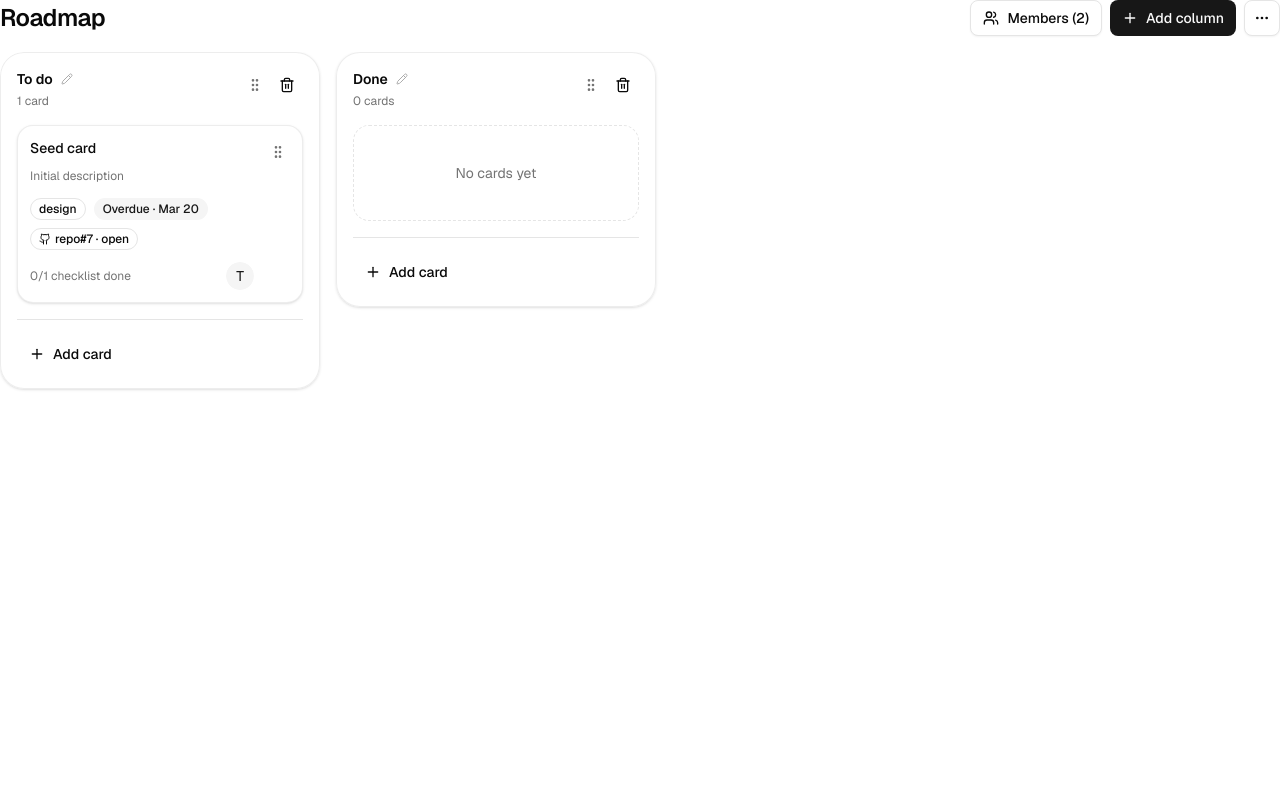
it: BoardView › removes a board member
The image size is (1280, 800).
Later steps or results of the test are not shown.
Click the button "Members (2)": (1036, 18) [970,0,1102,36]
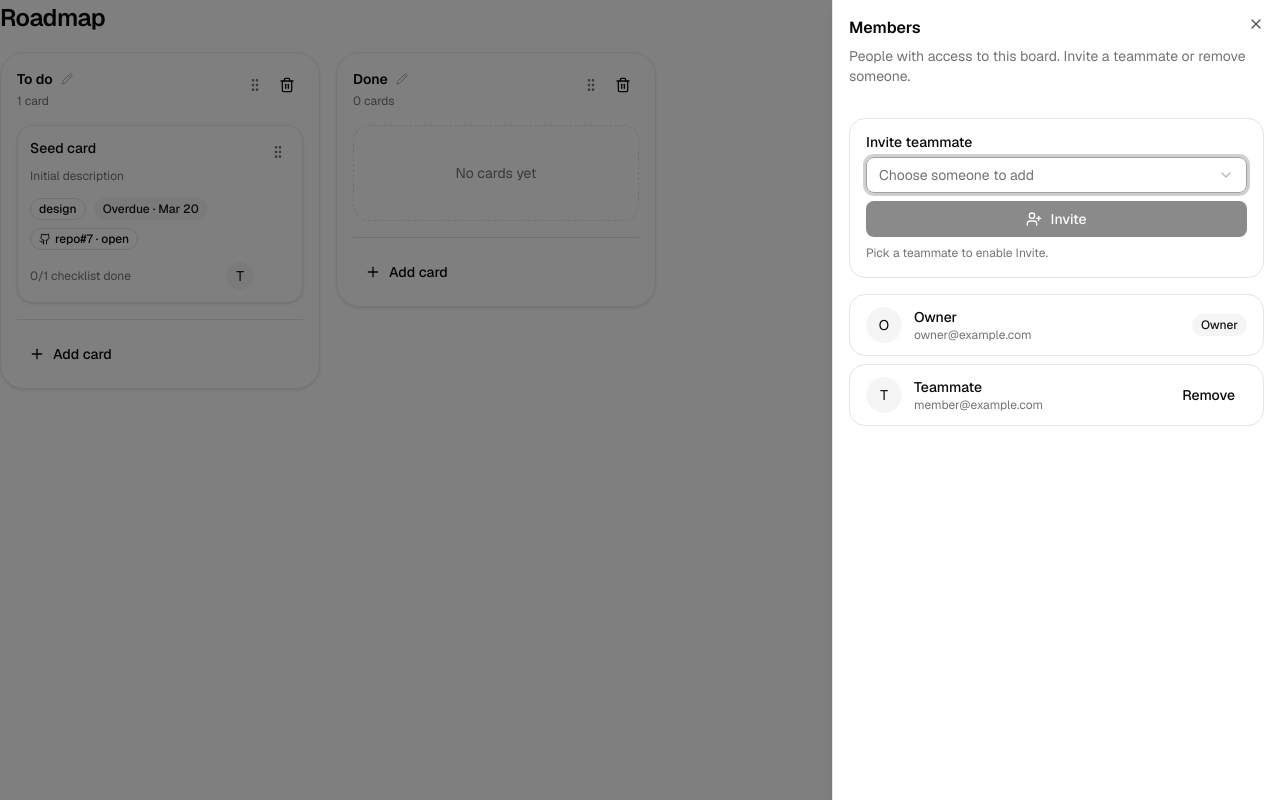
Result: the dropdown named "Invite teammate" is shown at [866,157,1247,193]
Result: the text "Pick a teammate to enable Invite." is shown at [866,245,1048,261]
